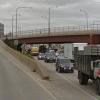Bridge: (8, 23, 94, 47)
